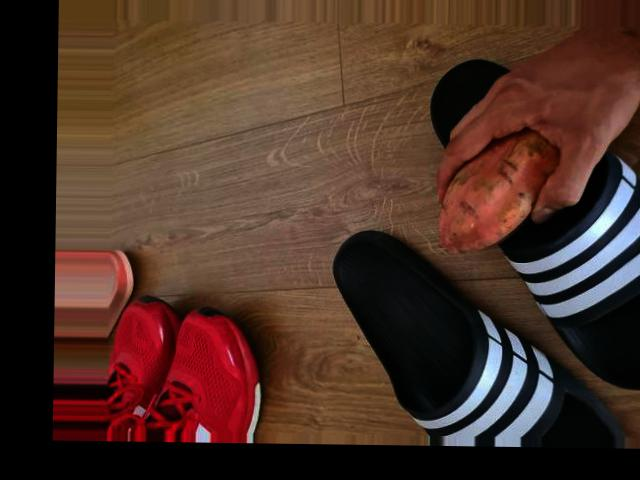sweet_potato: (435, 134, 563, 264)
